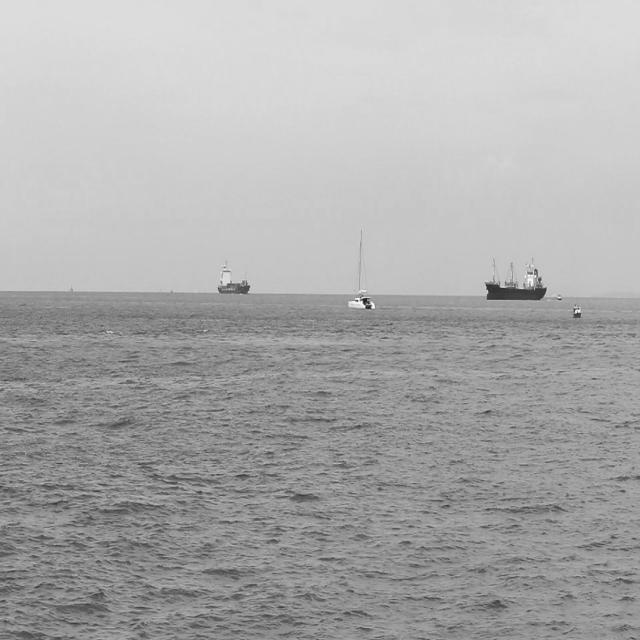boat: (348, 228, 377, 311)
ship: (484, 257, 547, 301), (217, 259, 251, 295), (572, 302, 582, 319), (553, 293, 563, 301)
